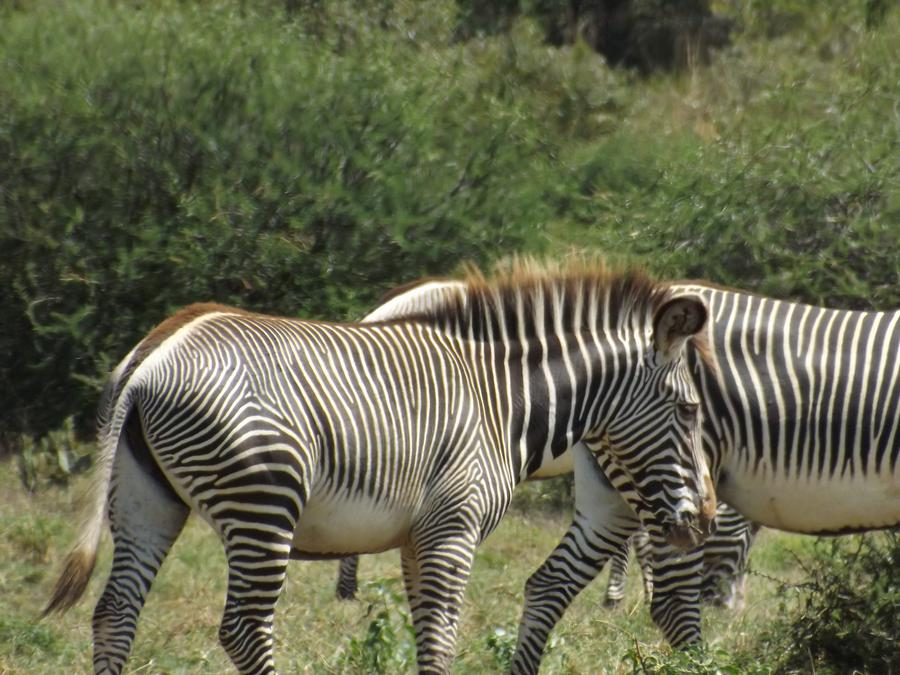zebra_grevys: (102, 289, 483, 543)
